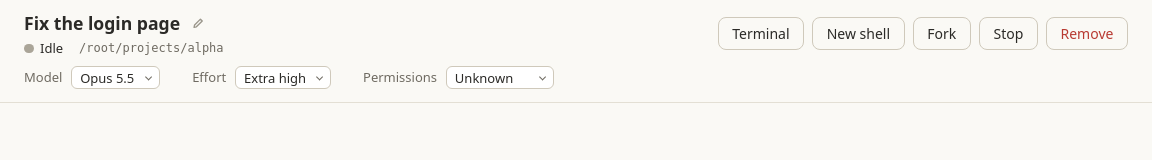
Test: a change the hub refuses says so and leaves the model Claude Code reports
The image size is (1152, 160).
Select "Haiku" in the dropdown labelled "Model" at (116, 78), box [71,66,160,90]
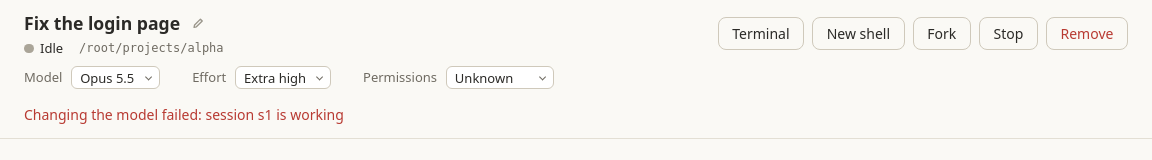
Result: the message reads "Changing the model failed: session s1 is working" at [24,105,344,124]
